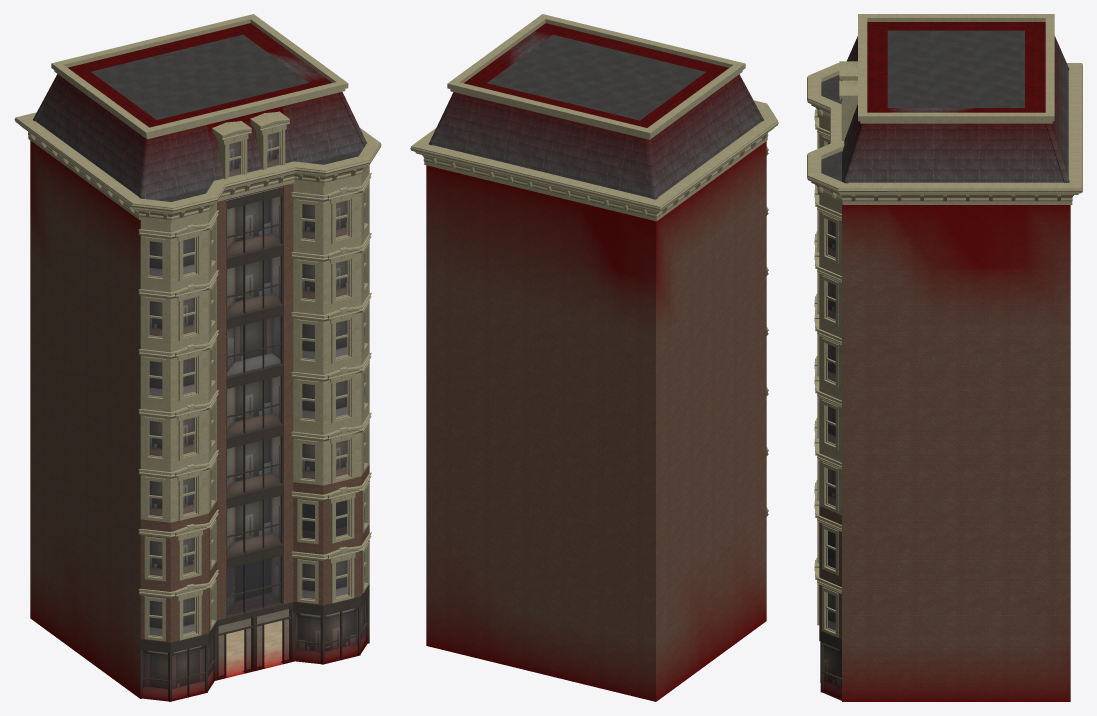
The model's file is Building_Medium_1.gltf.
3 renders of one model, left to right at view 1: azimuth 30°, elevation 25°; view 2: azimuth 150°, elevation 25°; view 3: azimuth 270°, elevation 25°, orthographic. The views are drawn at different scales.
Visible parts, largest first — view 1: Building_Medium_1; view 2: Building_Medium_1; view 3: Building_Medium_1.
Boxes of the visible parts, bbox=[...] form: Building_Medium_1: bbox=[14, 14, 381, 701]; Building_Medium_1: bbox=[410, 14, 778, 701]; Building_Medium_1: bbox=[807, 14, 1082, 701].
Bounding box in the file's own units: 13.06 × 27.92 × 12.06.
14 materials, 13 textured.
